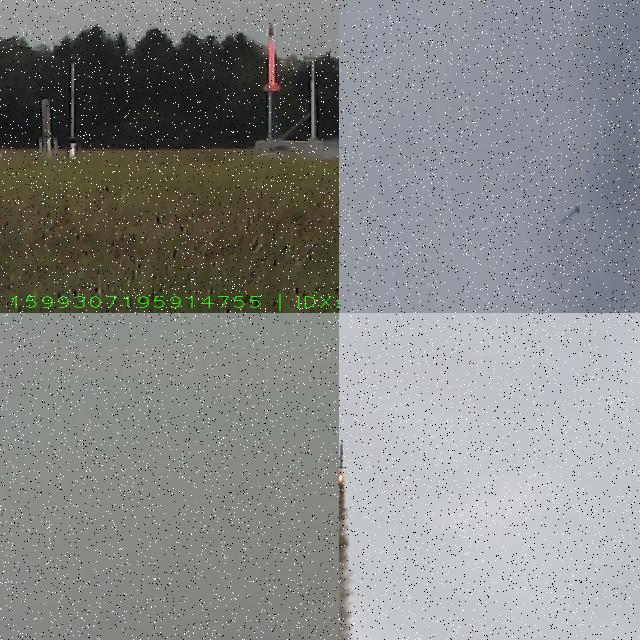Rocket: (263, 23, 281, 91), (560, 206, 580, 223), (339, 441, 346, 469)
